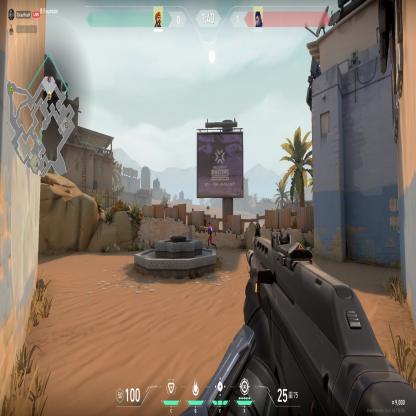enemy: (205, 221, 217, 251)
